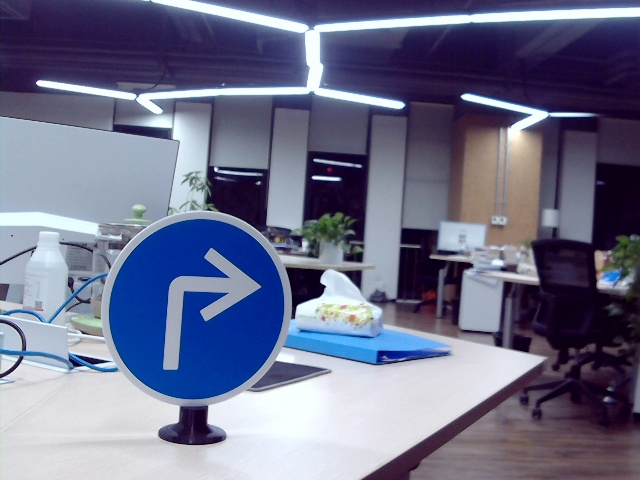turn_right: (150, 248, 256, 371)
